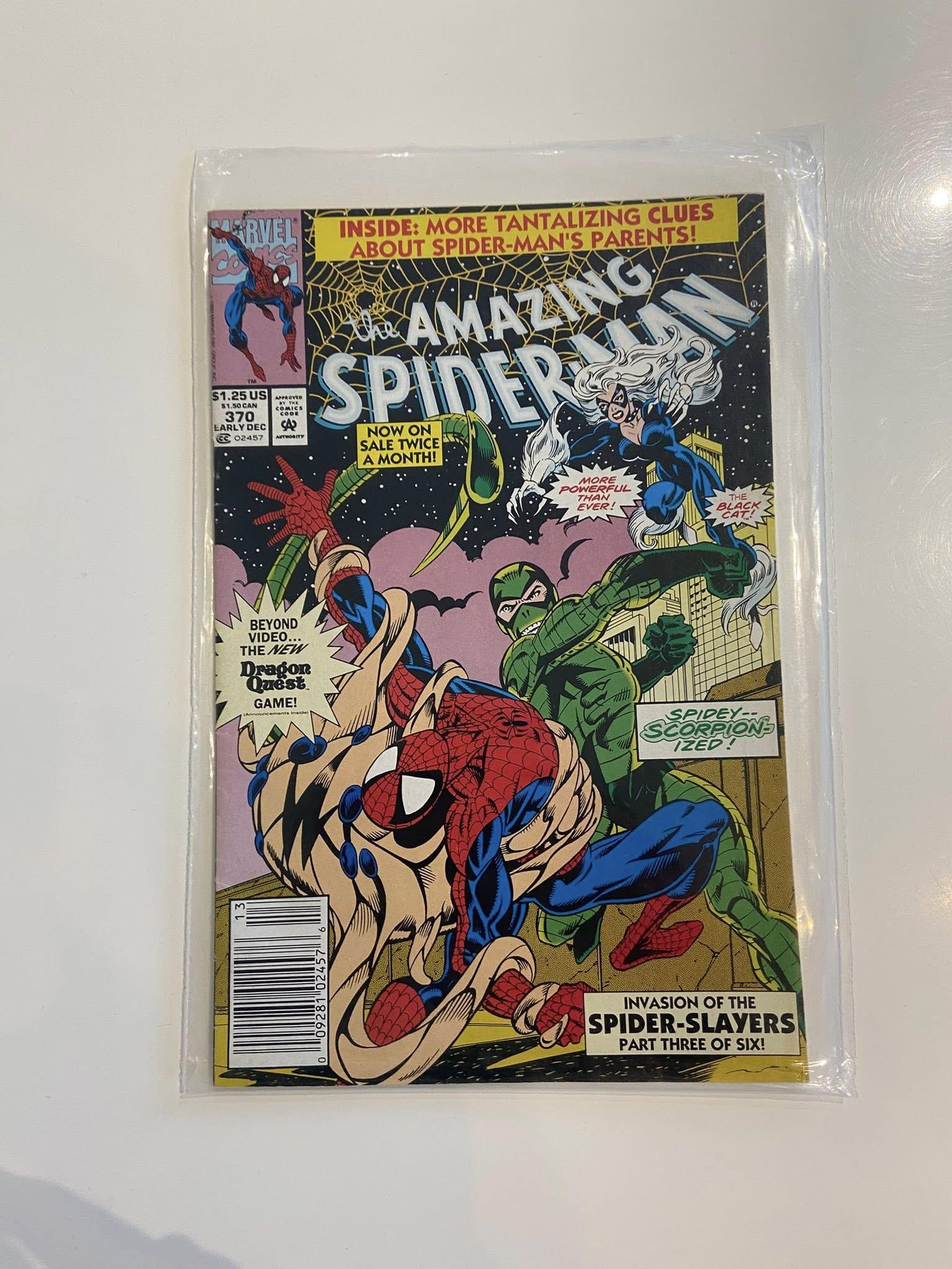comic: (208, 194, 806, 1086)
